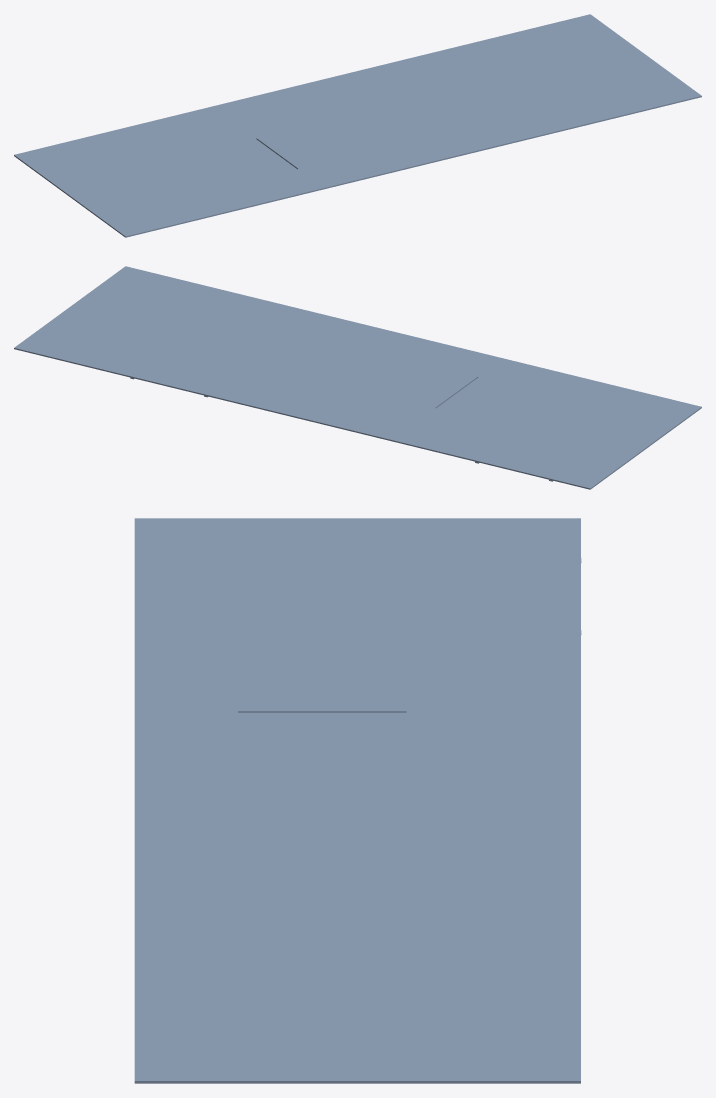
The model's file is wall.dae.
3 renders of one model, top to bottom at view 1: azimuth 30°, elevation 25°; view 2: azimuth 150°, elevation 25°; view 3: azimuth 270°, elevation 25°, orthographic. The views are drawn at different scales.
Bounding box in the file's own units: 7.04 × 0.0634 × 2.36.
